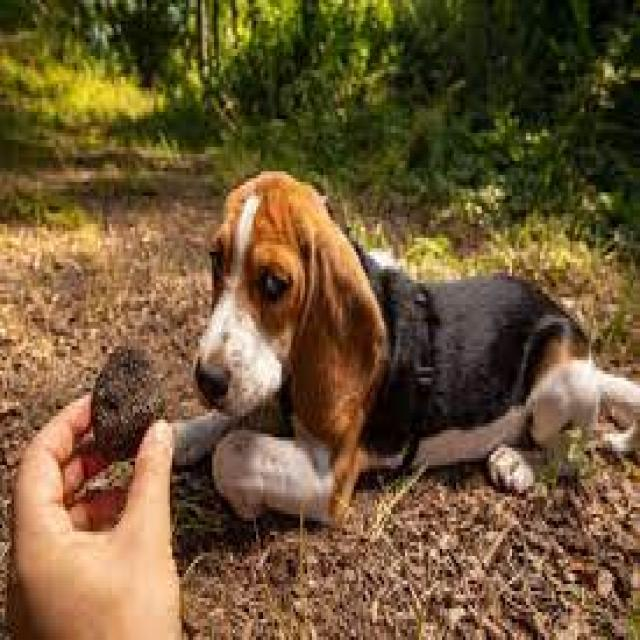Dog: (164, 166, 640, 534)
